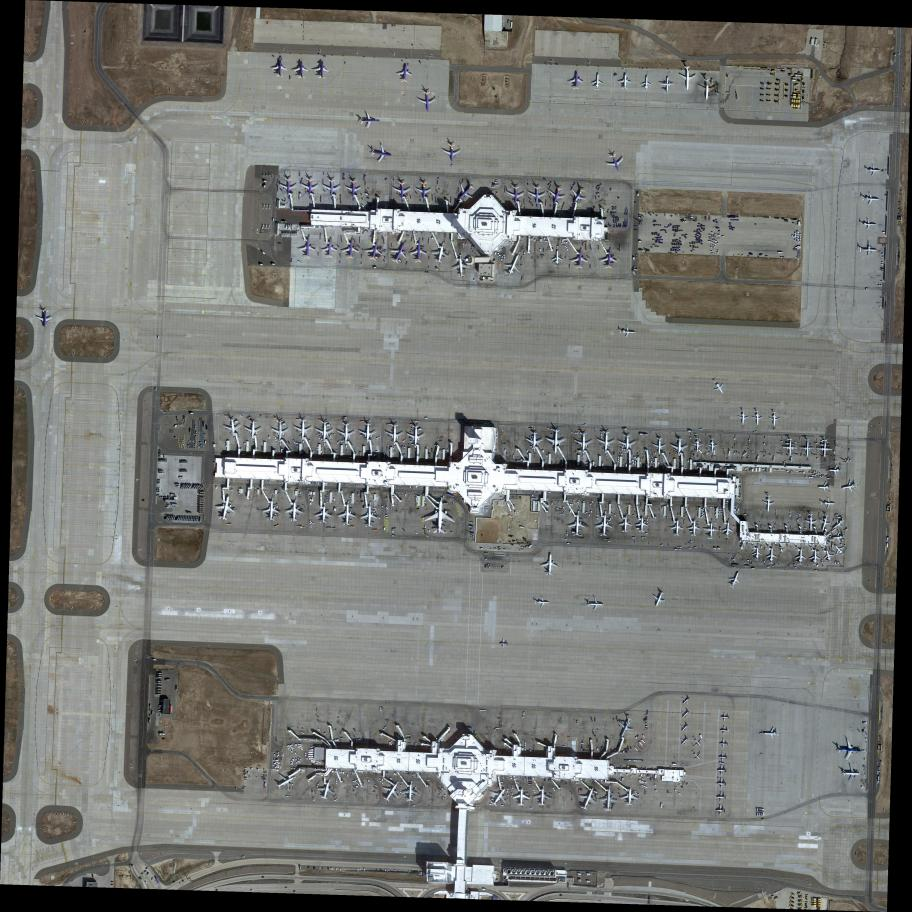large-vehicle: (631, 269, 636, 276), (155, 877, 160, 883), (641, 739, 646, 744), (639, 741, 643, 747), (634, 746, 638, 751), (632, 268, 638, 271), (642, 735, 646, 739), (878, 776, 880, 783), (878, 767, 880, 773), (778, 252, 783, 254), (632, 537, 636, 539), (594, 428, 596, 431), (645, 533, 648, 535), (667, 504, 669, 507), (673, 764, 678, 765), (607, 541, 611, 542), (674, 549, 678, 550)
plane: (422, 496, 458, 536), (448, 174, 482, 209), (483, 782, 514, 813), (562, 182, 593, 213), (611, 711, 640, 744), (574, 783, 602, 817), (499, 249, 527, 282), (384, 237, 413, 268), (212, 492, 238, 525), (377, 778, 405, 807), (366, 139, 396, 166), (273, 769, 301, 797), (834, 736, 863, 763), (312, 778, 340, 805), (543, 181, 570, 209), (604, 151, 629, 177), (545, 427, 567, 456), (539, 550, 560, 578), (596, 429, 617, 457), (364, 238, 386, 264), (360, 503, 381, 530), (430, 241, 451, 268), (405, 421, 426, 448), (599, 786, 619, 814), (647, 587, 670, 611), (573, 430, 594, 456), (336, 421, 357, 447), (261, 497, 281, 524), (594, 512, 614, 539), (358, 420, 378, 447), (503, 184, 527, 206), (416, 89, 438, 113), (567, 512, 587, 538), (698, 77, 718, 103), (678, 64, 697, 91), (384, 422, 405, 446), (284, 499, 304, 524), (452, 253, 471, 279), (278, 175, 299, 198), (314, 420, 334, 444), (271, 419, 290, 444), (313, 503, 334, 525), (34, 308, 55, 330), (618, 433, 638, 456), (524, 429, 544, 452), (815, 511, 834, 535), (298, 236, 317, 260), (669, 437, 690, 458), (223, 417, 244, 438), (840, 764, 862, 784), (527, 184, 547, 206), (570, 249, 590, 271), (726, 568, 745, 591), (401, 781, 420, 804), (533, 786, 552, 809), (293, 418, 312, 441), (410, 240, 428, 264), (601, 247, 619, 271), (585, 593, 606, 613), (827, 514, 848, 534), (829, 540, 849, 561), (242, 420, 263, 440), (338, 503, 356, 526), (300, 177, 320, 197), (321, 178, 341, 198), (710, 377, 729, 398), (391, 182, 412, 201), (414, 179, 433, 200), (442, 143, 461, 164), (513, 786, 531, 808), (396, 62, 414, 84), (567, 69, 585, 91), (840, 477, 860, 496), (858, 240, 878, 259), (342, 240, 360, 261), (816, 438, 833, 460), (621, 787, 639, 807), (360, 112, 380, 130), (659, 74, 676, 95), (782, 437, 799, 458), (344, 179, 362, 198), (272, 58, 289, 78), (760, 726, 781, 742), (322, 238, 338, 259), (315, 59, 331, 80), (651, 436, 667, 457), (800, 438, 816, 459), (861, 191, 880, 208), (617, 324, 637, 340), (294, 59, 310, 79), (804, 512, 819, 532), (760, 494, 775, 514), (687, 517, 701, 538), (821, 547, 836, 566), (704, 521, 719, 540), (794, 546, 807, 567), (591, 71, 604, 92), (634, 515, 648, 534), (670, 518, 684, 537), (809, 548, 822, 568), (551, 248, 564, 268), (690, 734, 706, 750), (826, 463, 843, 478), (533, 595, 551, 609), (722, 519, 734, 540), (619, 72, 632, 91), (678, 693, 694, 708), (618, 515, 631, 533), (859, 217, 877, 230), (864, 164, 882, 177), (736, 409, 749, 427), (691, 436, 704, 454), (640, 74, 652, 93), (690, 748, 705, 763), (678, 707, 693, 722), (817, 480, 832, 495), (820, 496, 836, 510), (829, 531, 846, 544), (766, 547, 778, 565), (677, 720, 691, 735), (751, 410, 764, 426), (768, 411, 780, 427), (677, 735, 691, 748), (707, 439, 719, 454), (752, 545, 763, 561), (718, 712, 731, 723), (715, 804, 726, 816), (715, 792, 727, 803), (716, 777, 727, 789), (717, 738, 729, 748), (717, 765, 727, 776), (717, 752, 728, 762), (718, 726, 730, 735), (499, 638, 508, 649)
small-vehicle: (435, 267, 440, 271), (660, 803, 663, 808), (152, 658, 156, 661), (500, 248, 503, 252), (501, 245, 505, 248), (426, 779, 430, 782), (333, 498, 336, 502), (298, 261, 302, 264), (491, 503, 494, 507), (502, 776, 505, 780), (540, 239, 542, 244), (759, 254, 764, 256), (835, 441, 837, 446), (766, 566, 771, 568), (482, 889, 487, 891), (151, 878, 154, 881), (145, 881, 148, 884), (500, 246, 503, 249), (816, 564, 819, 567), (854, 697, 857, 700), (752, 567, 755, 570), (415, 531, 418, 534), (149, 704, 151, 708), (250, 890, 254, 892), (504, 448, 506, 452), (462, 245, 464, 249), (496, 436, 498, 440), (491, 186, 495, 188), (865, 288, 869, 290), (833, 450, 835, 454), (614, 766, 616, 770), (359, 738, 361, 742), (158, 707, 162, 709), (204, 440, 206, 444), (268, 436, 270, 440), (239, 415, 243, 417), (272, 218, 274, 222), (405, 493, 407, 497), (357, 492, 359, 496), (498, 549, 502, 551), (470, 522, 474, 524), (319, 866, 321, 870), (155, 388, 157, 391), (158, 715, 161, 717), (261, 876, 264, 878), (215, 889, 218, 891), (242, 856, 245, 858), (285, 887, 288, 889), (559, 214, 561, 217), (495, 183, 498, 185), (542, 450, 544, 453), (465, 243, 467, 246), (462, 243, 464, 246), (898, 52, 900, 55), (765, 256, 768, 258), (726, 92, 729, 94), (797, 519, 799, 522), (804, 527, 807, 529), (789, 514, 791, 517), (641, 767, 643, 770), (627, 766, 629, 769), (621, 766, 623, 769), (651, 778, 653, 781), (762, 818, 765, 820), (496, 432, 498, 435), (573, 500, 575, 503), (428, 529, 430, 532), (356, 739, 358, 742), (353, 772, 355, 775), (386, 773, 389, 775), (411, 870, 413, 873), (408, 870, 410, 873), (388, 869, 390, 872), (384, 527, 386, 530), (166, 506, 169, 508), (157, 336, 159, 339), (386, 869, 388, 872), (385, 869, 387, 872), (380, 869, 382, 872), (470, 529, 473, 531), (494, 548, 497, 550), (470, 535, 473, 537), (485, 507, 488, 509), (485, 510, 488, 512), (551, 502, 553, 505), (439, 785, 441, 788), (356, 868, 358, 871), (308, 866, 310, 869), (484, 423, 489, 424), (792, 80, 797, 81), (495, 251, 496, 255), (749, 254, 753, 255), (850, 459, 851, 463), (577, 782, 579, 784), (576, 781, 577, 785), (689, 547, 691, 549), (158, 710, 162, 711), (352, 772, 353, 776), (190, 413, 194, 414), (159, 706, 163, 707), (364, 868, 365, 872), (330, 868, 332, 870), (528, 784, 532, 785), (322, 867, 324, 869), (293, 891, 296, 892), (633, 267, 636, 268), (495, 182, 498, 183), (495, 185, 498, 186), (492, 185, 495, 186), (492, 261, 495, 262), (653, 767, 654, 770), (827, 478, 830, 479), (646, 767, 647, 770), (744, 514, 747, 515), (738, 508, 739, 511), (563, 500, 564, 503), (425, 525, 426, 528), (358, 739, 359, 742), (413, 774, 414, 777), (414, 775, 415, 778), (425, 418, 428, 419), (480, 548, 483, 549), (498, 547, 501, 548), (503, 549, 506, 550), (557, 749, 558, 752), (470, 537, 473, 538), (485, 509, 488, 510), (376, 869, 377, 872), (360, 868, 361, 871), (358, 868, 359, 871), (340, 868, 341, 871), (336, 868, 337, 871), (328, 867, 329, 870), (314, 867, 315, 870), (496, 180, 498, 181), (502, 430, 503, 432), (486, 192, 487, 194), (793, 567, 795, 568), (395, 870, 396, 872), (326, 483, 327, 485), (332, 868, 333, 870)
